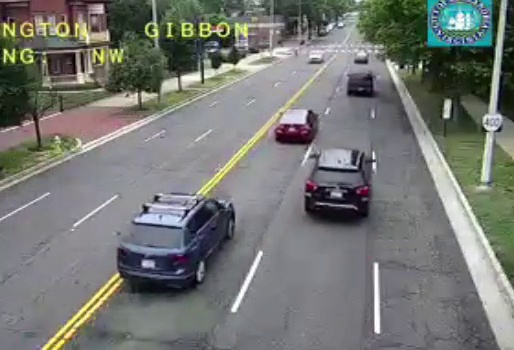car: (117, 193, 235, 285), (305, 149, 370, 215), (275, 109, 317, 139), (347, 71, 374, 96)
